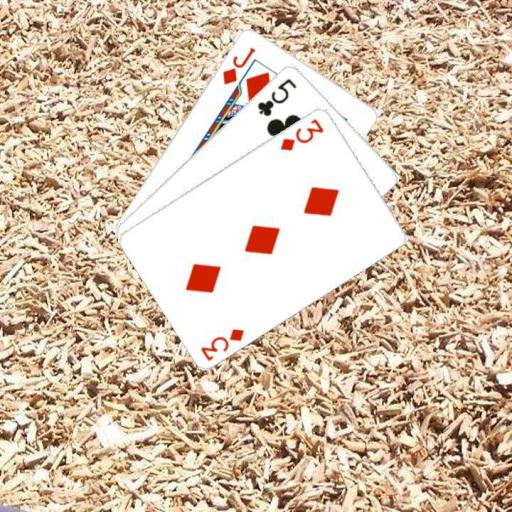3D: (197, 324, 246, 362), (277, 115, 326, 152)
5C: (254, 74, 298, 118)
JD: (219, 43, 257, 86)
